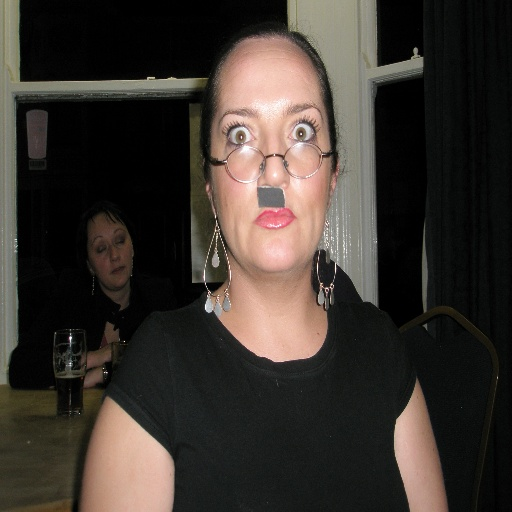hand: (96, 340, 124, 365), (80, 368, 96, 389)
